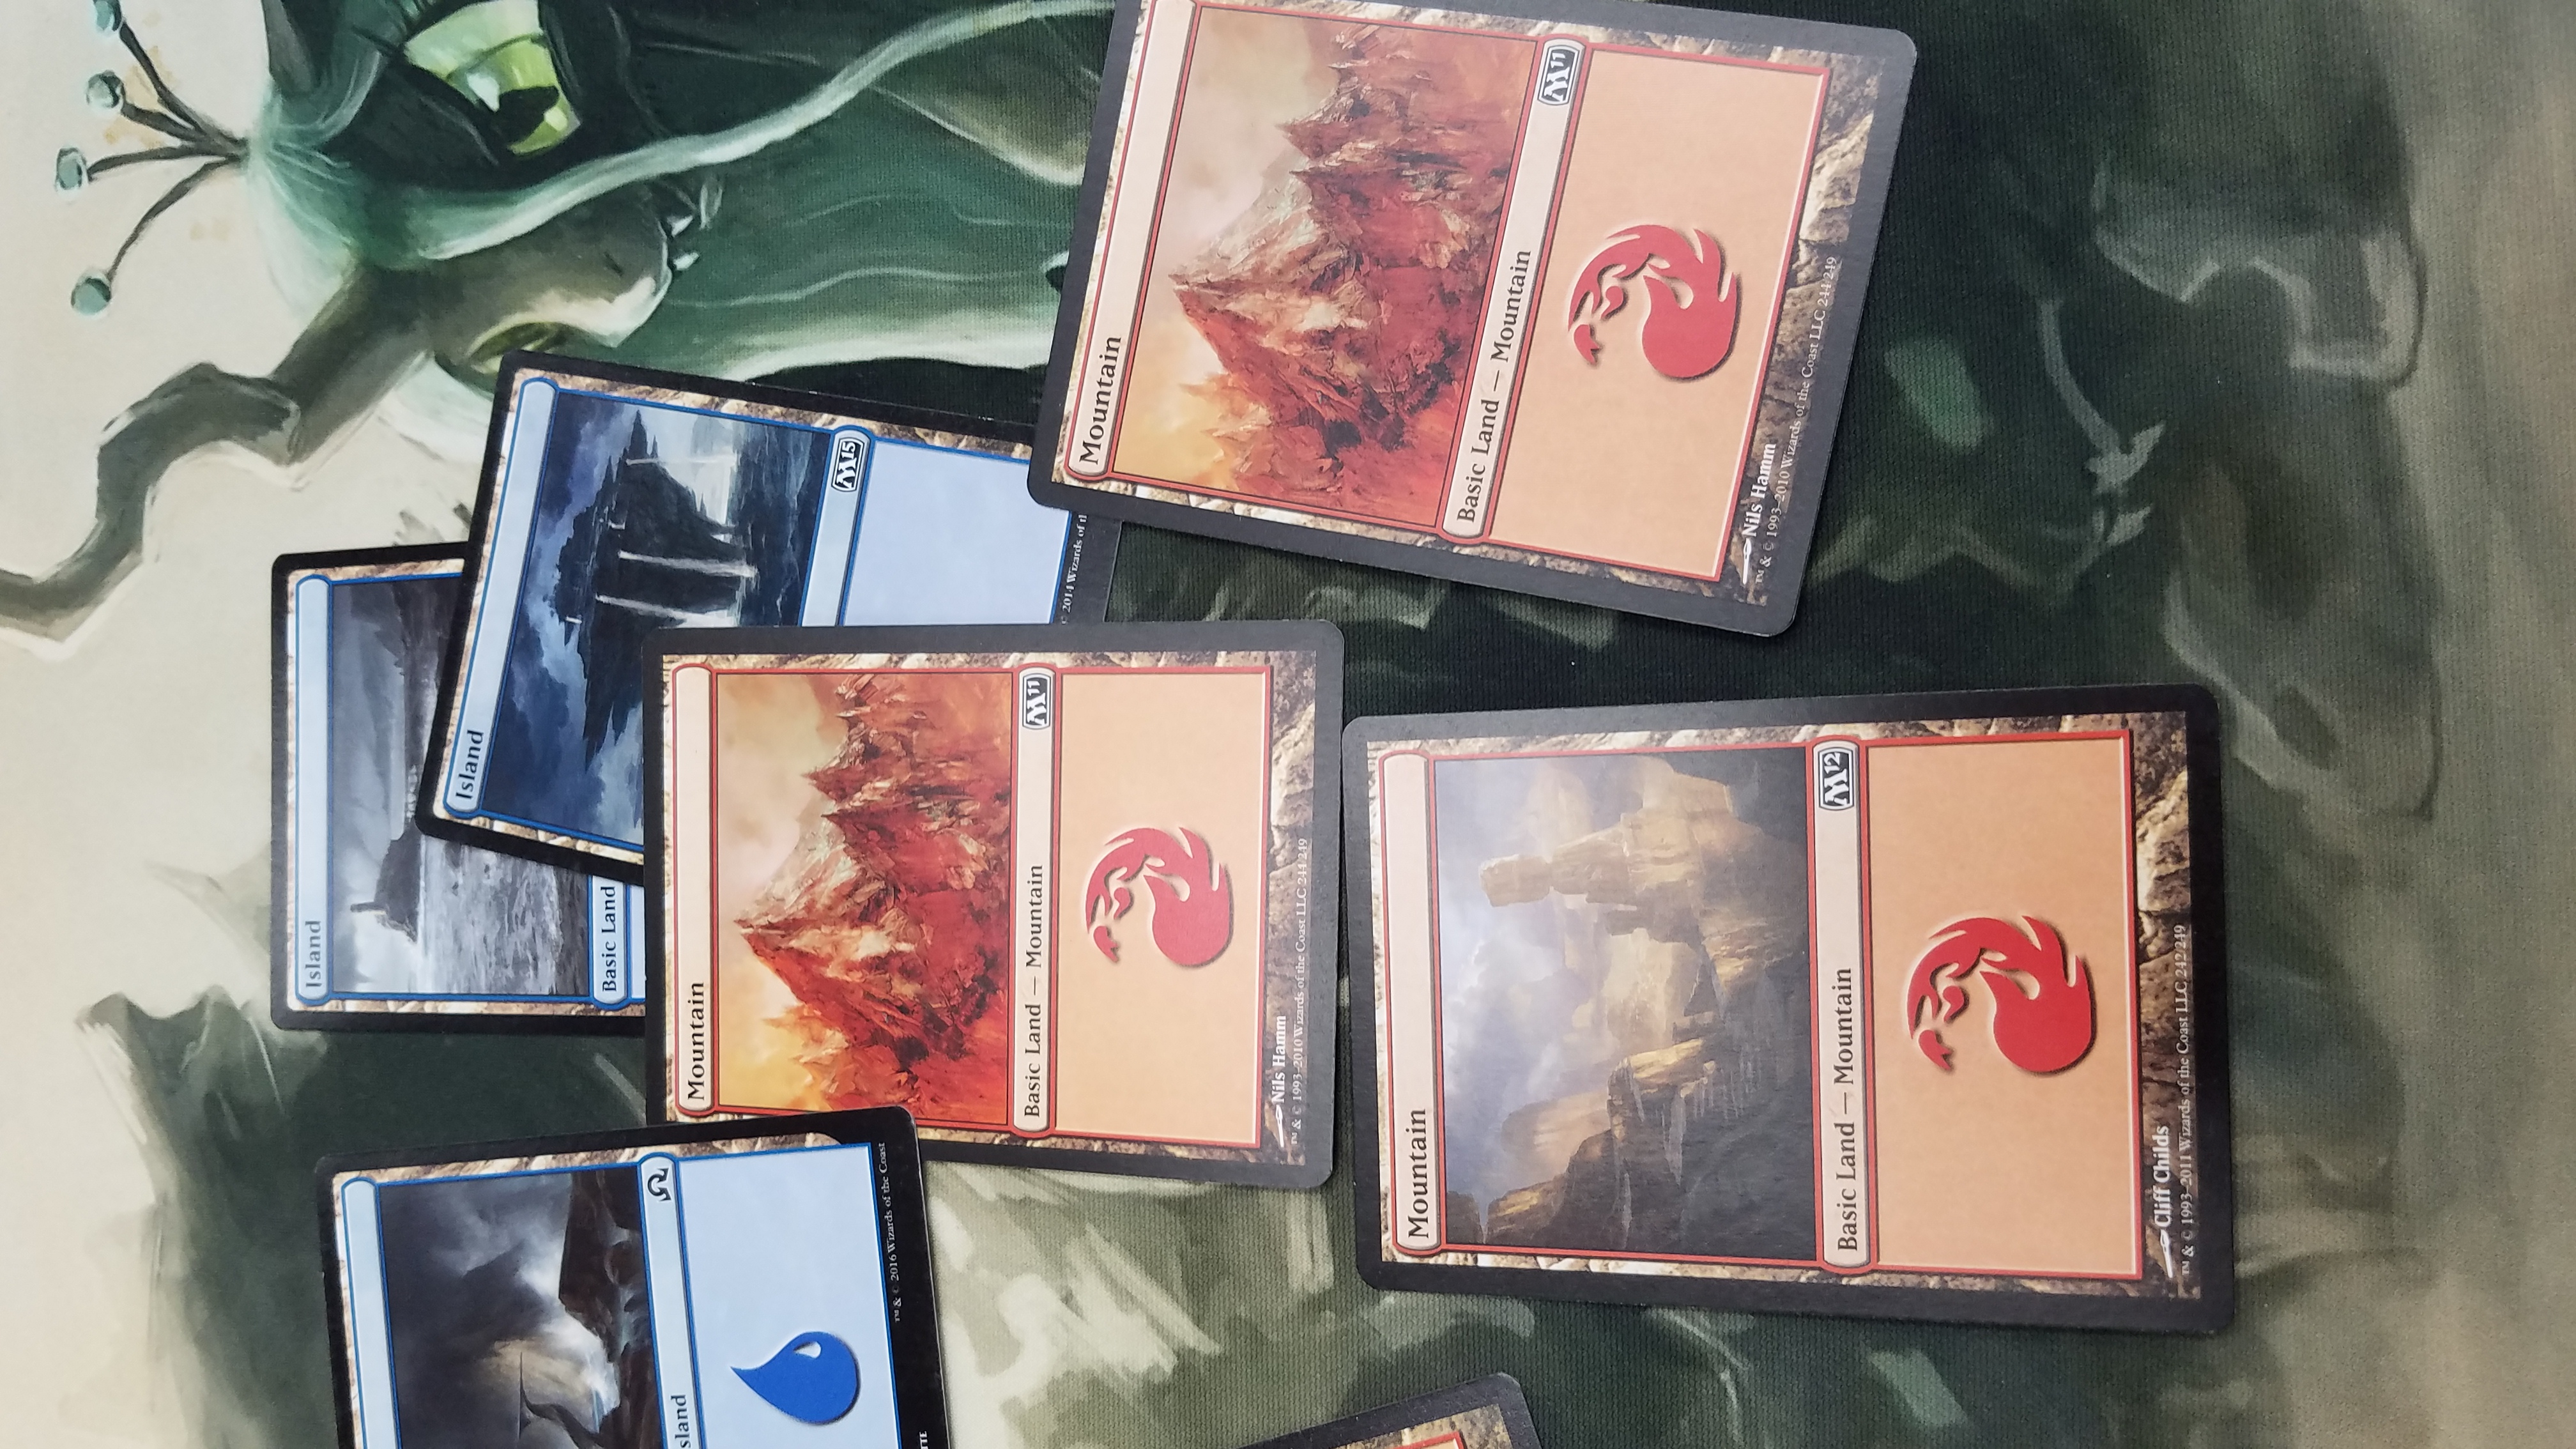Card: (1336, 683, 2254, 1346), (1037, 0, 1918, 644), (632, 614, 1353, 1207), (409, 350, 1134, 883), (257, 536, 679, 1047)
